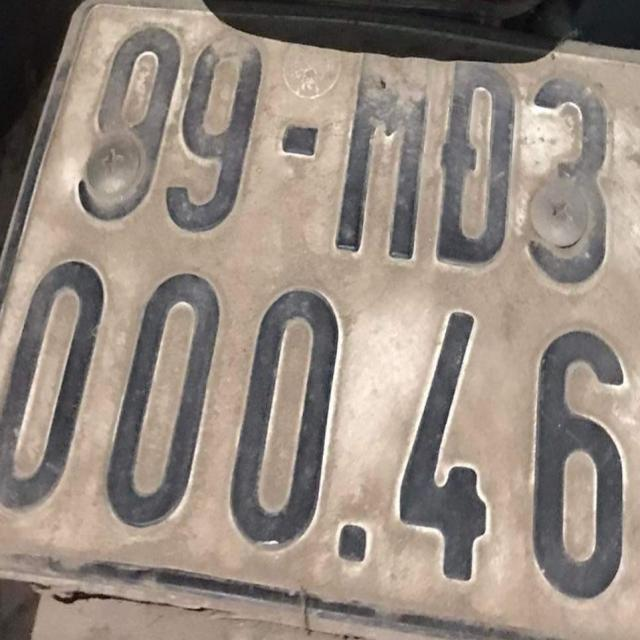0: (226, 278, 344, 559), (108, 269, 222, 532), (0, 257, 106, 510)
4: (387, 295, 500, 594)
6: (519, 314, 635, 606)
9: (165, 23, 266, 244)
D: (432, 58, 521, 280)
